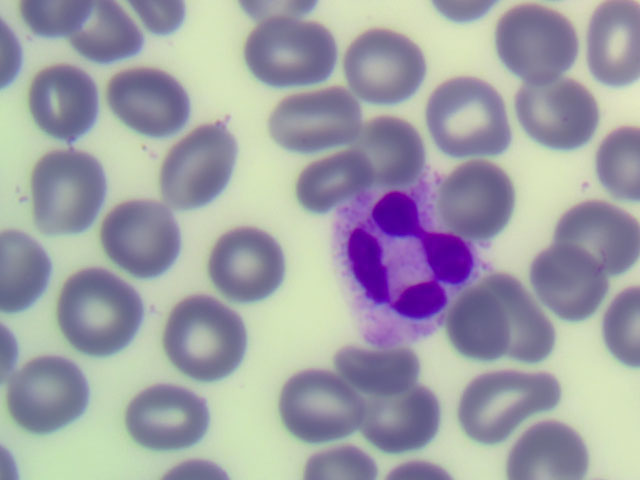RBC: (26, 59, 109, 138), (105, 58, 188, 137), (160, 125, 243, 204), (30, 147, 113, 226), (100, 193, 183, 272), (204, 222, 287, 301), (163, 296, 246, 375), (60, 271, 143, 350), (8, 352, 91, 431), (121, 377, 204, 456), (271, 367, 354, 446), (335, 321, 418, 400), (355, 372, 438, 451), (461, 364, 544, 443), (430, 287, 513, 366), (477, 284, 560, 363), (533, 246, 616, 325), (557, 184, 640, 263), (441, 155, 524, 234), (358, 105, 441, 184), (285, 128, 368, 207), (271, 69, 354, 148), (251, 11, 334, 90), (344, 25, 427, 104), (423, 74, 506, 153), (521, 76, 604, 155), (495, 1, 578, 80), (500, 413, 586, 480), (55, 1, 141, 67)
WBC: (326, 185, 470, 324)
